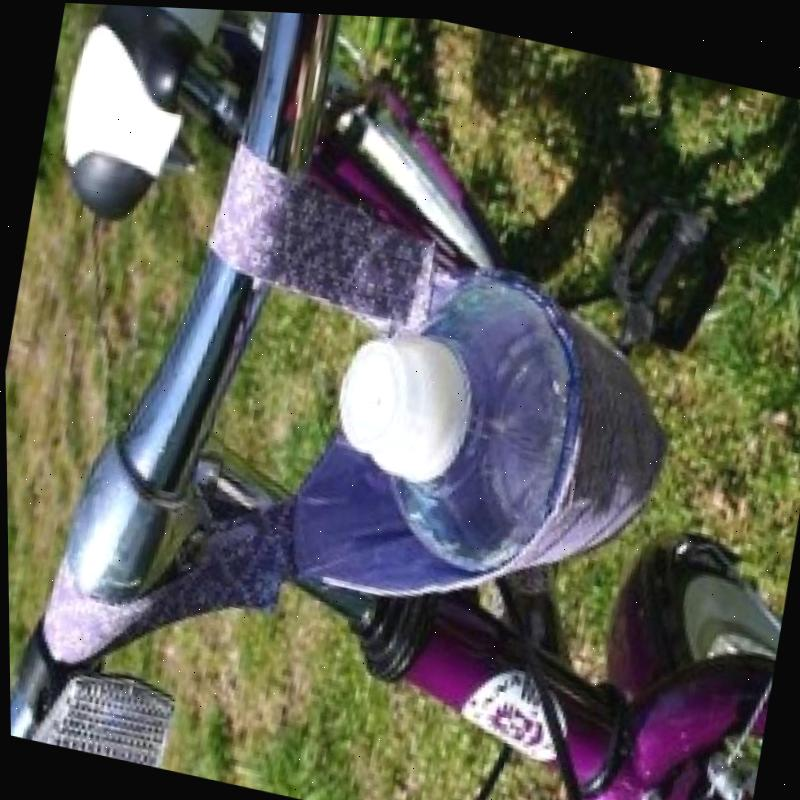botella: (311, 245, 585, 582)
